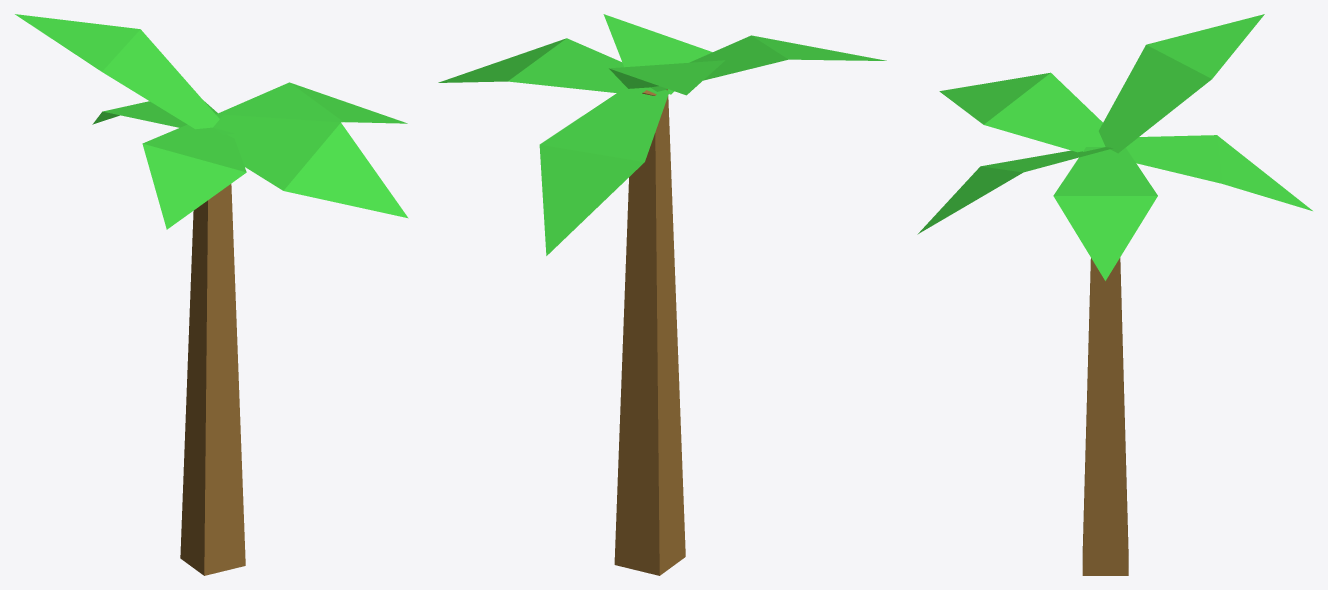
File: Palm.obj
The picture shows the model from 3 angles, left to right: view 1: azimuth 30°, elevation 25°; view 2: azimuth 150°, elevation 25°; view 3: azimuth 270°, elevation 25°; orthographic projection. The views are drawn at different scales.
Parts seen in each view (by area): view 1: Palm_Plane.004; view 2: Palm_Plane.004; view 3: Palm_Plane.004.
Boxes of the visible parts, box(x1,y1,x2,y2) form: Palm_Plane.004: box(15, 14, 408, 575); Palm_Plane.004: box(438, 14, 886, 575); Palm_Plane.004: box(917, 14, 1312, 575).
Bounding box in the file's own units: 3.16 × 4.76 × 3.44.
